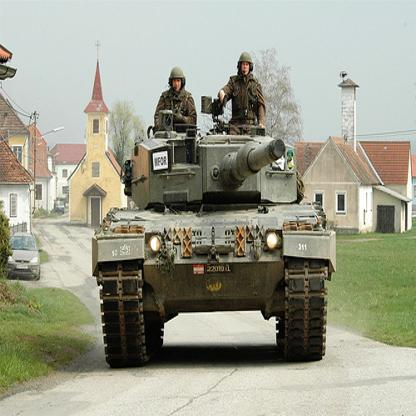Tank: (91, 125, 341, 370)
